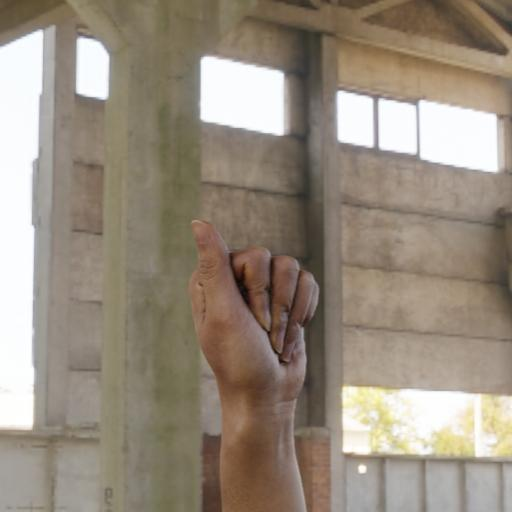A: (176, 196, 326, 410)
